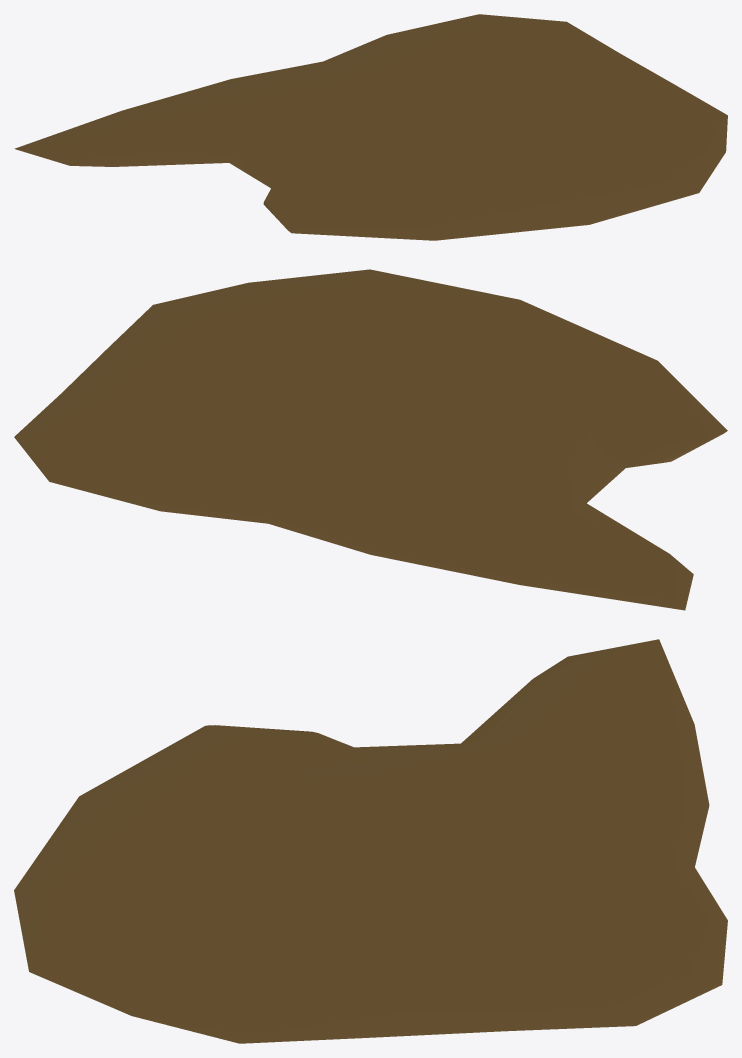
File: Dirt_2.fbx
3 renders of one model, top to bottom at view 1: azimuth 30°, elevation 25°; view 2: azimuth 150°, elevation 25°; view 3: azimuth 270°, elevation 25°, orthographic. The views are drawn at different scales.
Parts seen in each view (by area): view 1: Dirt2; view 2: Dirt2; view 3: Dirt2.
Part boxes in pixels (x1,y1,x2,y2): Dirt2: [14, 14, 727, 240]; Dirt2: [14, 269, 727, 610]; Dirt2: [14, 639, 727, 1043].
Bounding box in the file's own units: 1051 × 2.78 × 784.
Materials: 1 (1 with a texture image).
